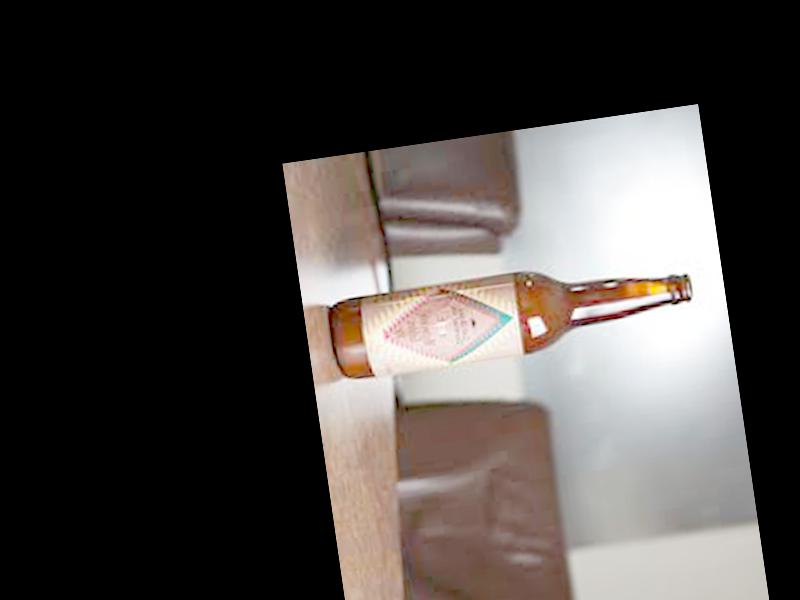Beer: (327, 249, 695, 379)
